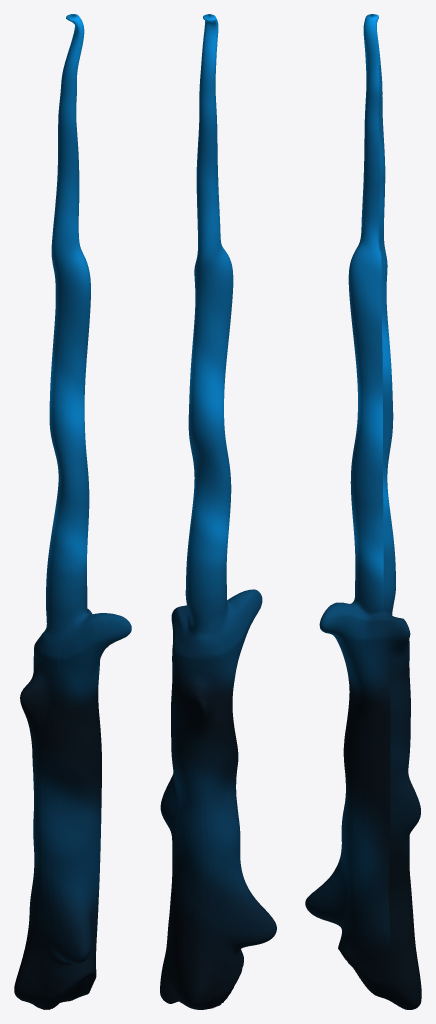
File: VaritaAzul.fbx
The picture shows the model from 3 angles, left to right: view 1: azimuth 90°, elevation 25°; view 2: azimuth 150°, elevation 25°; view 3: azimuth 330°, elevation 25°; orthographic projection.
Visible parts, largest first — view 1: Cylinder.003; view 2: Cylinder.003; view 3: Cylinder.003.
Part boxes in pixels (bbox=[...]): Cylinder.003: bbox=[14, 14, 131, 1009]; Cylinder.003: bbox=[160, 14, 276, 1009]; Cylinder.003: bbox=[305, 14, 421, 1009].
Bounding box in the file's own units: 11.51 × 103 × 10.97.
